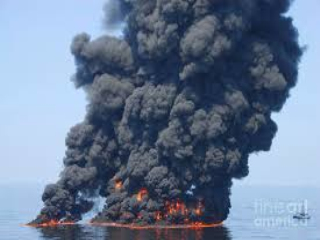fire: (60, 6, 293, 193)
